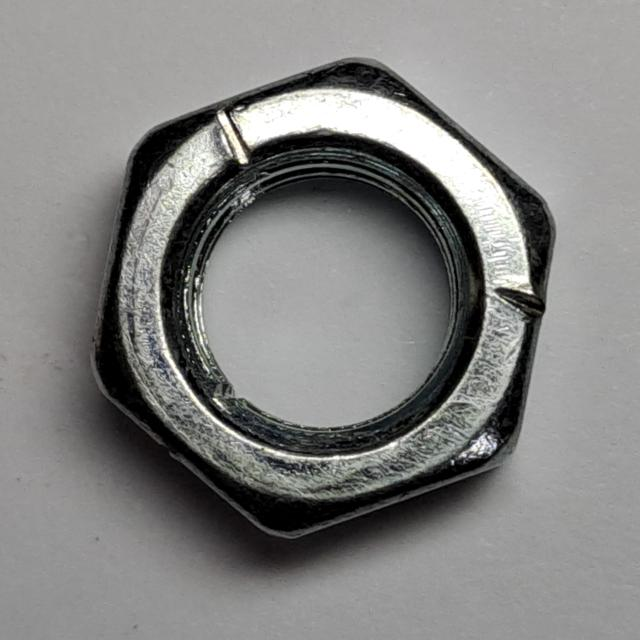Scratches: (70, 49, 573, 555)
